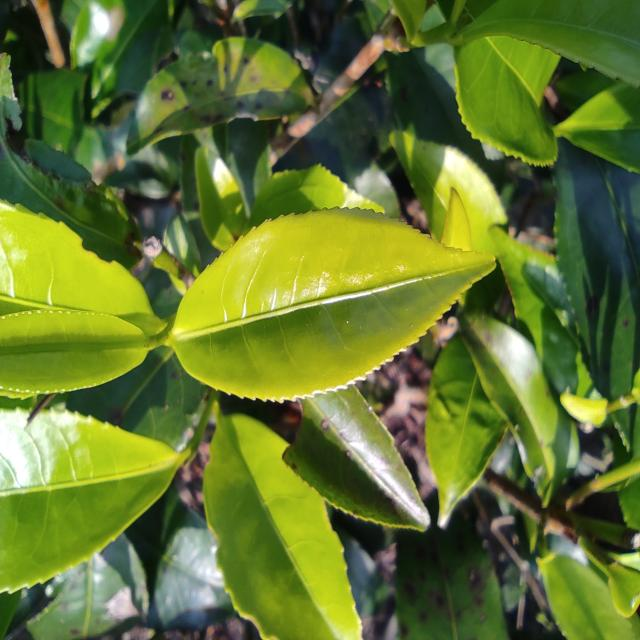Category B(2-4 days): (148, 182, 510, 406)
